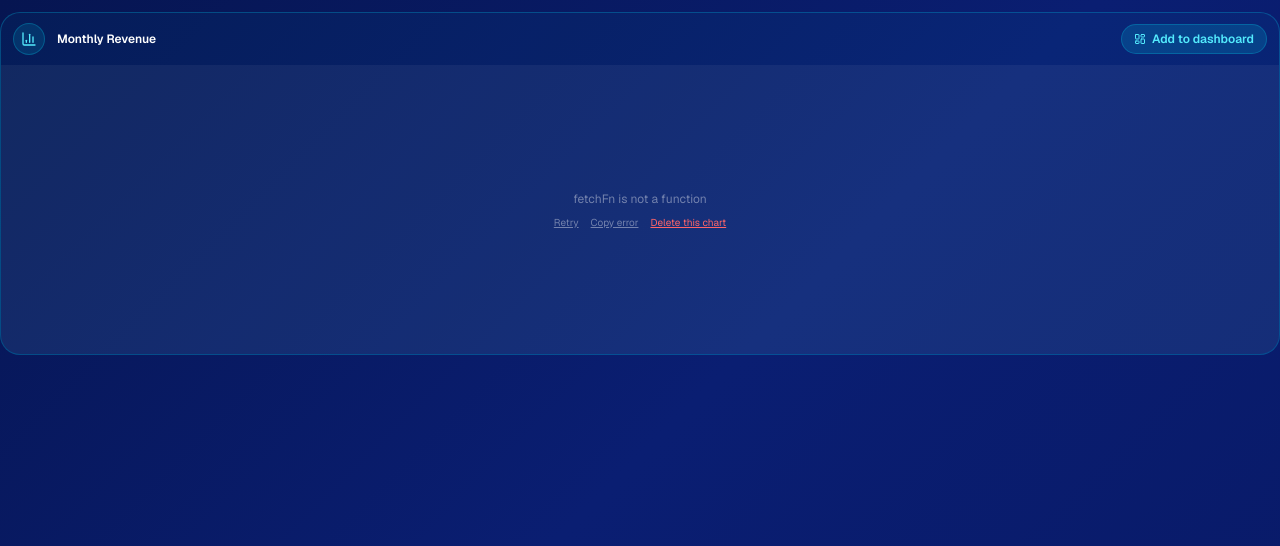
Test: ChartEmbedCard › shows an error when sending fails
The image size is (1280, 546).
Click the button "Add to dashboard". click: (1194, 39)
box: [1121,24,1267,54]
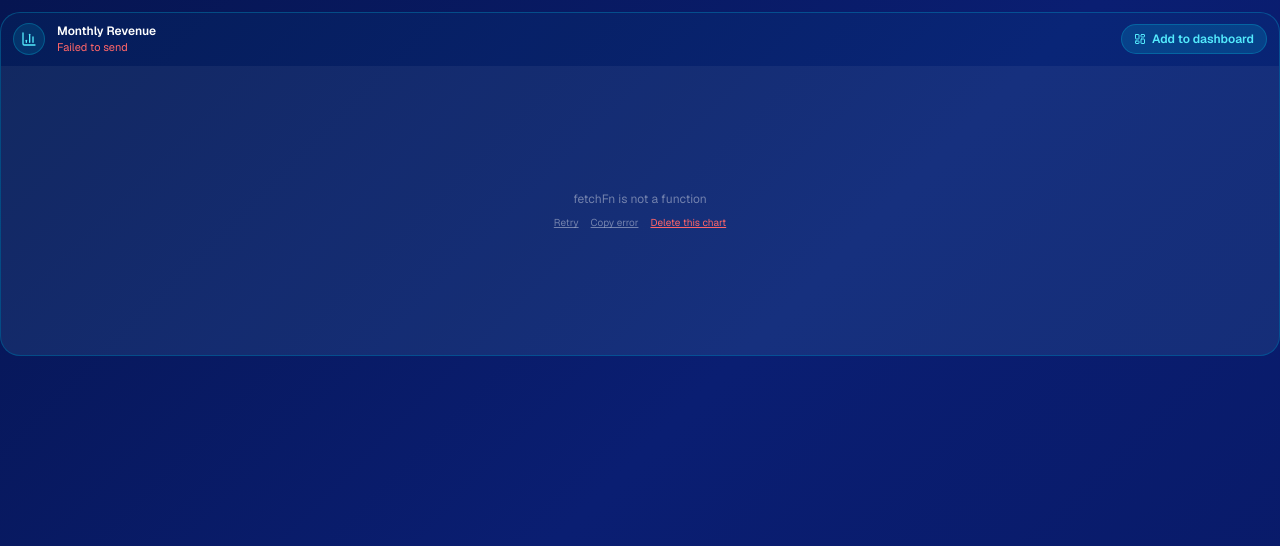
Result: the text "Failed to send" is shown at [57,40,128,54]
